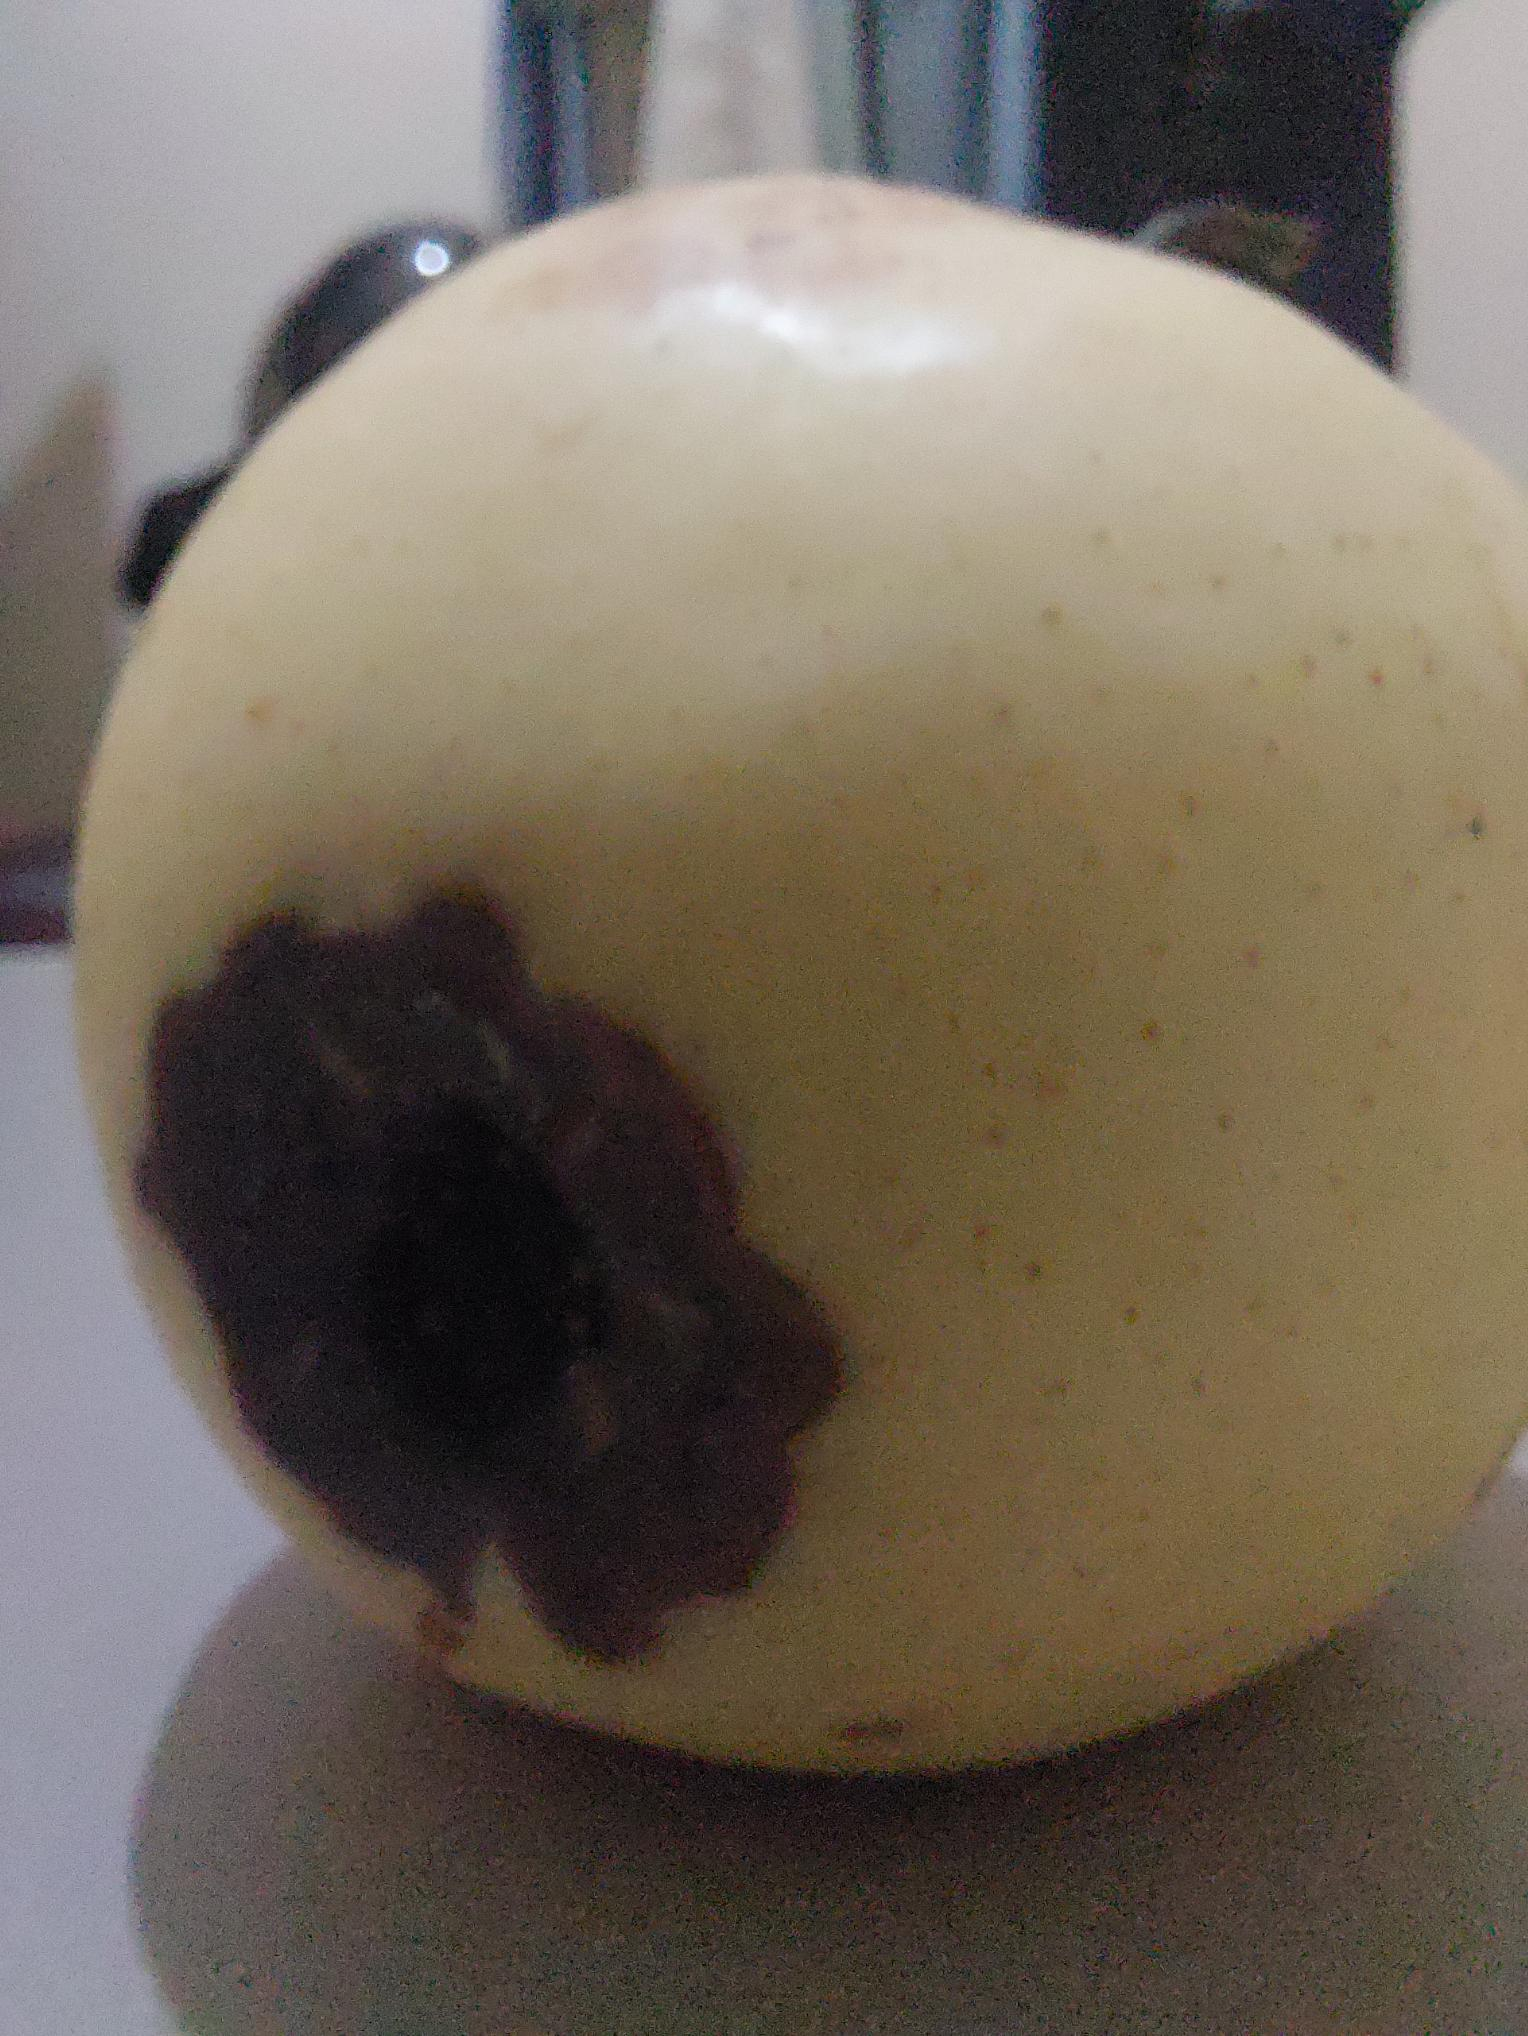Bad Pear: (57, 171, 1528, 1803)
